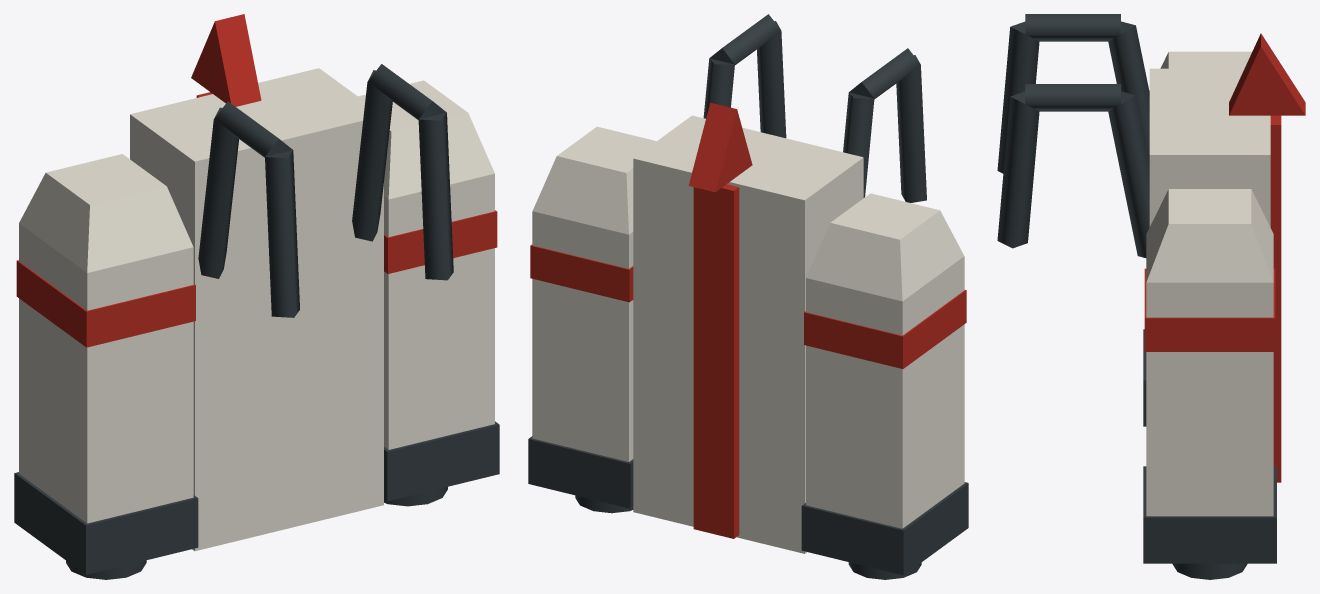
The picture shows the model from 3 angles, left to right: view 1: azimuth 30°, elevation 25°; view 2: azimuth 150°, elevation 25°; view 3: azimuth 270°, elevation 25°; orthographic projection. The views are drawn at different scales.
Parts seen in each view (by area): view 1: jetpack-fleet-armor, jetpack-fleet-machine, jetpack-fleet-red; view 2: jetpack-fleet-armor, jetpack-fleet-red, jetpack-fleet-machine; view 3: jetpack-fleet-armor, jetpack-fleet-machine, jetpack-fleet-red.
Part boxes in pixels (x1,y1,x2,y2): jetpack-fleet-armor: (19, 68, 494, 551); jetpack-fleet-machine: (14, 64, 499, 579); jetpack-fleet-red: (16, 14, 497, 347); jetpack-fleet-armor: (532, 115, 964, 553); jetpack-fleet-red: (530, 102, 966, 538); jetpack-fleet-machine: (528, 14, 968, 579); jetpack-fleet-armor: (1146, 51, 1273, 516); jetpack-fleet-machine: (997, 14, 1276, 579); jetpack-fleet-red: (1144, 33, 1305, 482).
Bounding box in the file's own units: 3.73 × 4.21 × 2.58.
